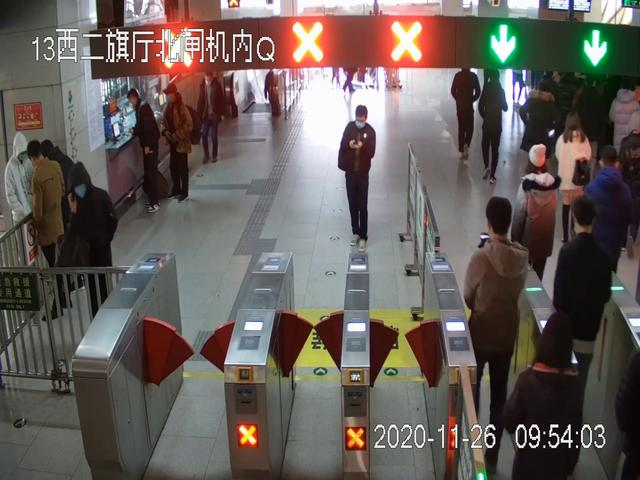person: (464, 198, 530, 473), (503, 313, 584, 480), (22, 139, 75, 321), (67, 160, 116, 319), (510, 144, 560, 284), (587, 147, 632, 282), (339, 106, 376, 250), (126, 88, 164, 213), (556, 112, 591, 242), (519, 81, 557, 175), (163, 82, 191, 201), (479, 70, 507, 184), (196, 71, 225, 166), (452, 66, 480, 163)
